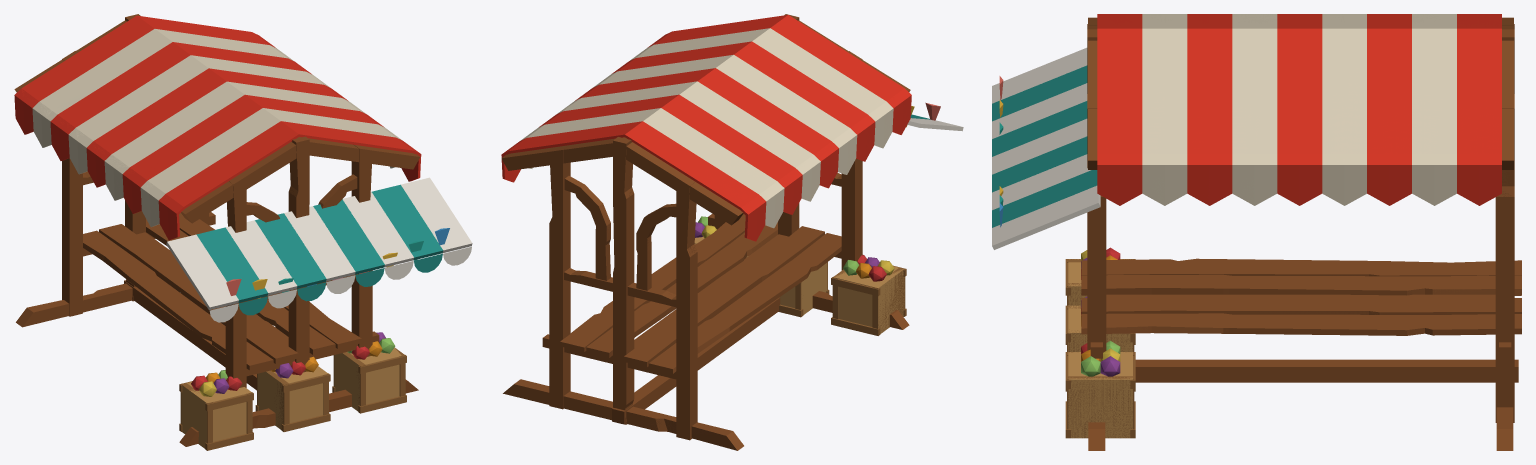
The model's file is market_stand-1.glb.
3 renders of one model, left to right at view 1: azimuth 30°, elevation 25°; view 2: azimuth 150°, elevation 25°; view 3: azimuth 270°, elevation 25°, orthographic. The views are drawn at different scales.
Visible parts, largest first — view 1: building-market_stand-1, building-market_stand-1-far; view 2: building-market_stand-1, building-market_stand-1-far; view 3: building-market_stand-1, building-market_stand-1-far.
Part boxes in pixels (left/top/right/bottom): building-market_stand-1: left=14, top=14, right=472, bottom=450; building-market_stand-1-far: left=16, top=16, right=442, bottom=427; building-market_stand-1: left=501, top=14, right=963, bottom=450; building-market_stand-1-far: left=502, top=22, right=909, bottom=434; building-market_stand-1: left=992, top=14, right=1521, bottom=450; building-market_stand-1-far: left=999, top=14, right=1521, bottom=366.
Size of the model in its own units: 2.92 by 3 by 4.09.
